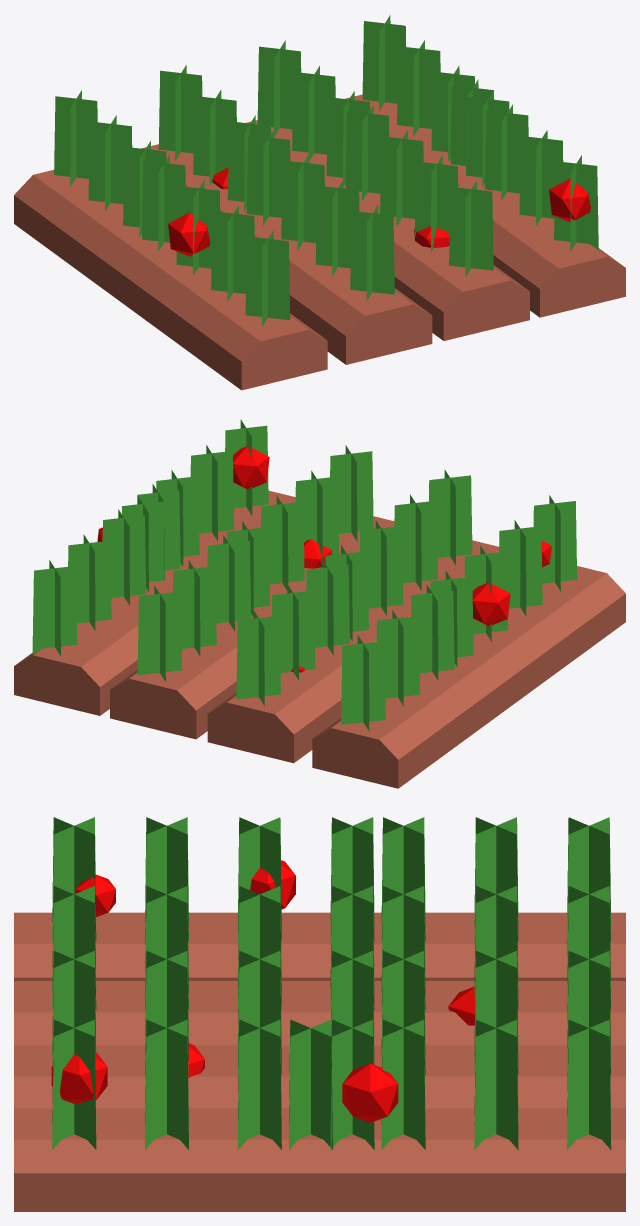
File: 3d_icons_farm.fbx
The picture shows the model from 3 angles, top to bottom: view 1: azimuth 30°, elevation 25°; view 2: azimuth 150°, elevation 25°; view 3: azimuth 270°, elevation 25°; orthographic projection. The views are drawn at different scales.
Parts seen in each view (by area): view 1: farm; view 2: farm; view 3: farm.
Part boxes in pixels (bbox=[...]): farm: bbox=[14, 15, 625, 390]; farm: bbox=[14, 419, 625, 788]; farm: bbox=[14, 817, 625, 1211].
Size of the model in its own units: 200 by 59.82 by 200.
